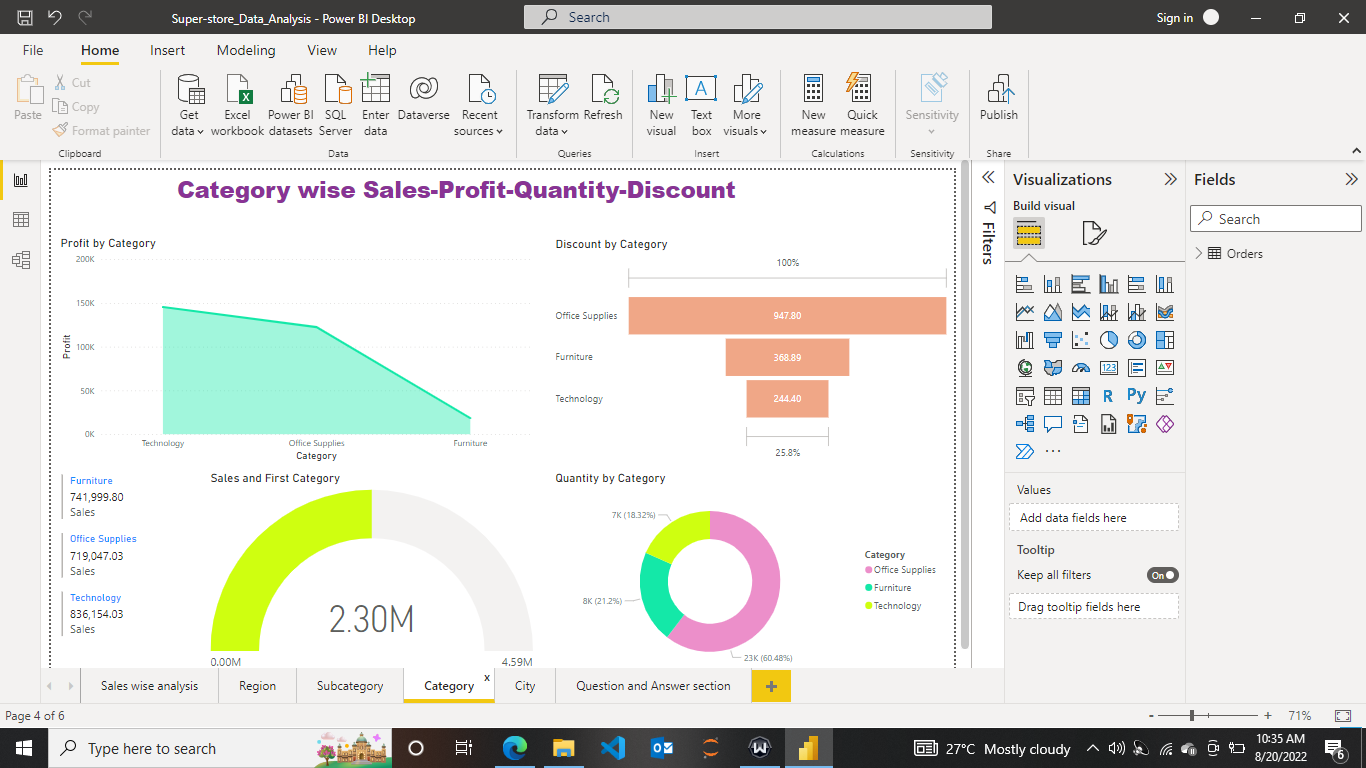

The page's visual inventory and layout, read from the dashboard file:
{"tool":"powerbi","page":{"name":"Category","canvas":[1280,720],"ordinal":3},"visuals":[{"type":"textbox","box":[9.6,0,1129.1,67.2],"z":0},{"type":"areaChart","fields":{"Category":["Orders.Category"],"Y":["Sum(Orders.Profit)"]},"box":[8.8,94.1,677.9,323.5],"z":1000},{"type":"multiRowCard","fields":{"Values":["Orders.Category","Sum(Orders.Sales)"]},"box":[9.6,426.7,211.3,293.6],"z":2000},{"type":"funnel","fields":{"Category":["Orders.Category"],"Y":["Sum(Orders.Discount)"]},"box":[710.7,94.7,569.3,322.4],"z":3000},{"type":"donutChart","fields":{"Category":["Orders.Category"],"Y":["Sum(Orders.Quantity)"]},"box":[710.7,426.7,558.4,293.6],"z":4000},{"type":"gauge","fields":{"Y":["Sum(Orders.Sales)"]},"box":[221.2,426.7,466.5,293.5],"z":5000}]}

Visuals, with their boxes on the page's 1280x720 design canvas (x1, y1, x2, y2). These are canvas units, not pixel positions in the 1366x768 screenshot, which may show the page scaled, cropped or inside an application window:
textbox: x1=10 y1=0 x2=1139 y2=67
areaChart - Orders.Category x Sum(Orders.Profit): x1=9 y1=94 x2=687 y2=418
multiRowCard - Orders.Category x Sum(Orders.Sales): x1=10 y1=427 x2=221 y2=720
funnel - Orders.Category x Sum(Orders.Discount): x1=711 y1=95 x2=1280 y2=417
donutChart - Orders.Category x Sum(Orders.Quantity): x1=711 y1=427 x2=1269 y2=720
gauge - Sum(Orders.Sales): x1=221 y1=427 x2=688 y2=720
